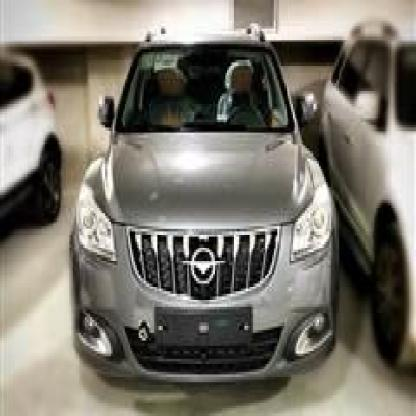Car: (75, 39, 336, 395), (329, 31, 416, 372), (0, 21, 69, 247)
